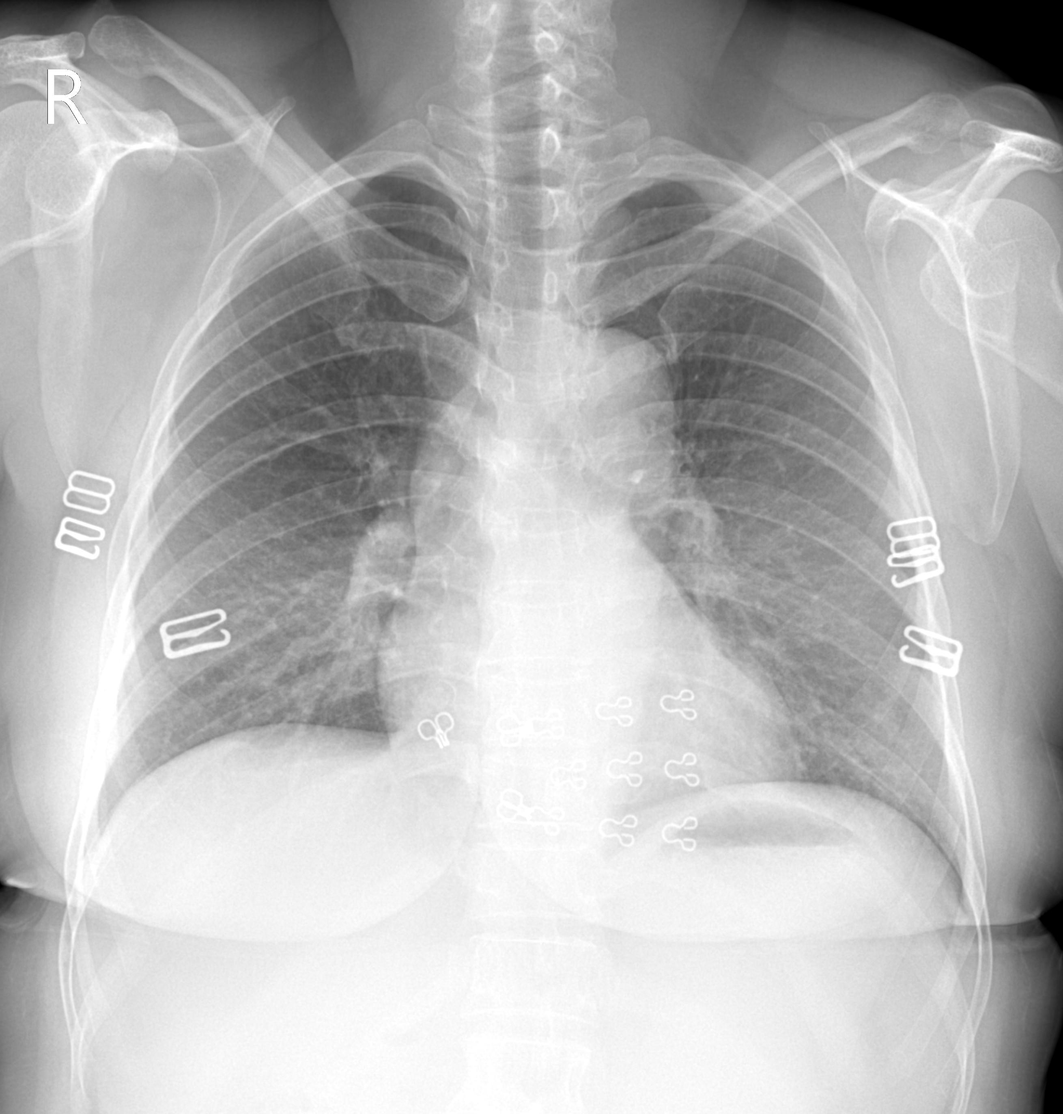Aortic enlargement: (510, 329, 672, 526)
